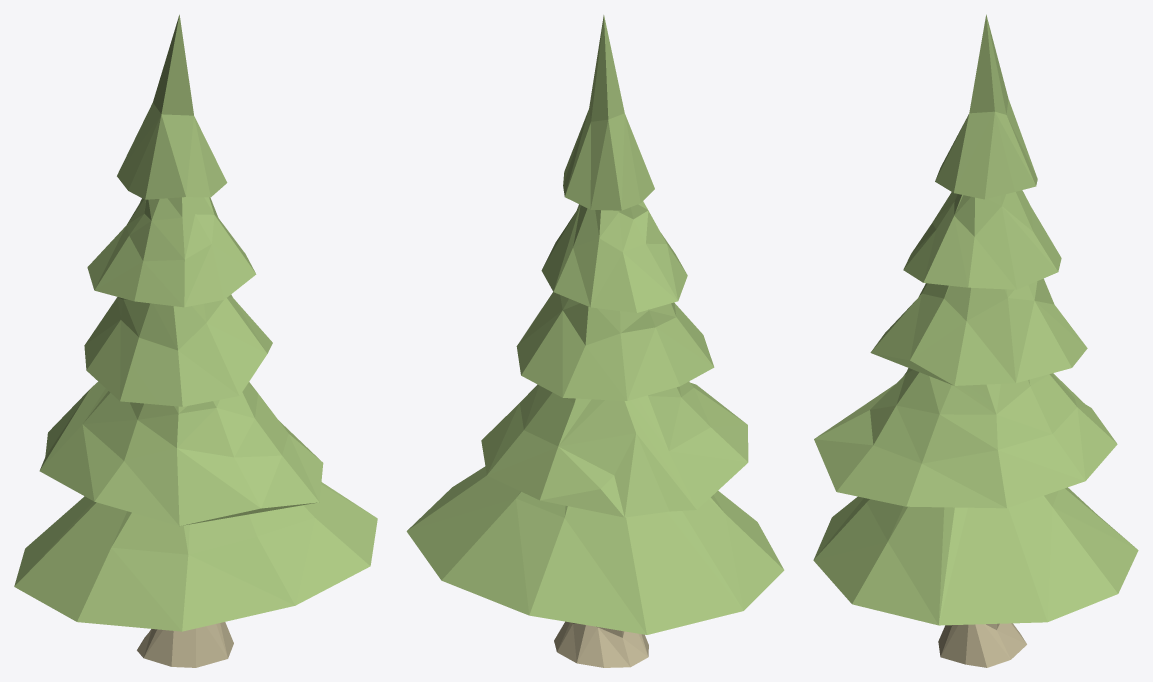
The model's file is LowPoly - FirTree B.FBX.
3 views of the same model, side by side, from view 1: azimuth 30°, elevation 25°; view 2: azimuth 150°, elevation 25°; view 3: azimuth 270°, elevation 25° (orthographic).
Parts seen in each view (by area): view 1: LowPolyFirTree_02; view 2: LowPolyFirTree_02; view 3: LowPolyFirTree_02.
Part boxes in pixels (<box>): LowPolyFirTree_02: <box>14,14,377,667</box>; LowPolyFirTree_02: <box>406,15,784,667</box>; LowPolyFirTree_02: <box>813,14,1138,667</box>.
Bounding box in the file's own units: 731 × 1358 × 634.
